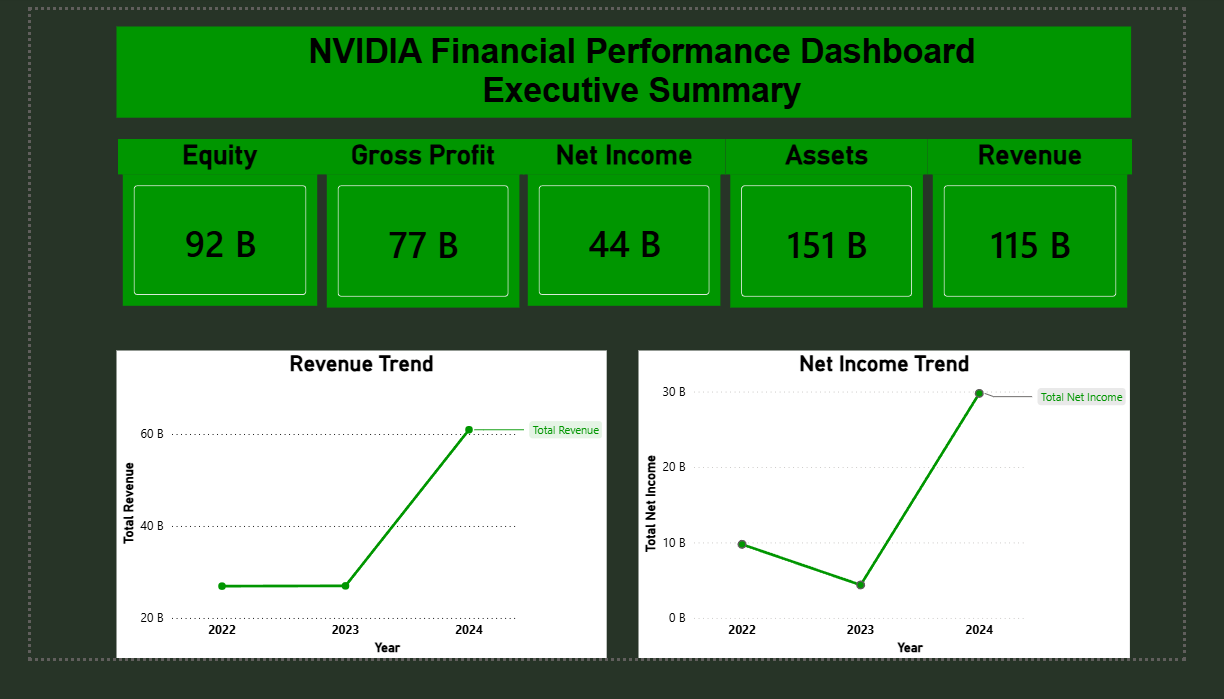

What the dashboard file says about the page in this screenshot:
{"tool":"powerbi","page":{"name":"Executive Summary","canvas":[1280,720],"ordinal":0},"visuals":[{"type":"cardVisual","title":"Revenue","fields":{"Data":["KPI_Table.Total Revenue"]},"box":[997.2,142.7,226.4,192.3],"z":0},{"type":"cardVisual","title":"Net Income","fields":{"Data":["KPI_Table.Total Net Income"]},"box":[547.5,142.7,224.9,190.8],"z":1000},{"type":"cardVisual","title":"Equity","fields":{"Data":["KPI_Table.Total Equity"]},"box":[96.2,142.7,226.4,190.8],"z":2000},{"type":"cardVisual","title":"Gross Profit","fields":{"Data":["KPI_Table.Total Gross Profit"]},"box":[322.6,142.7,224.9,192.3],"z":3000},{"type":"cardVisual","title":"Assets","fields":{"Data":["KPI_Table.Total Assets"]},"box":[772.3,142.7,224.9,192.3],"z":4000},{"type":"textbox","box":[94.7,18.9,1127.4,101.1],"z":5000},{"type":"lineChart","title":"Revenue Trend ","fields":{"Category":["Dim_Year.Year"],"Y":["KPI_Table.Total Revenue"]},"box":[94.9,377.8,544.6,341.8],"z":6000},{"type":"lineChart","title":"Net Income Trend","fields":{"Category":["Dim_Year.Year"],"Y":["KPI_Table.Total Net Income"]},"box":[675.4,377.8,546.2,341.8],"z":7000}]}

Visuals, with their boxes in screenshot pixels (x1, y1, x2, y2), scaled from the page's 1280x720 canvas onto the 1224x699 screenshot:
"Revenue" cardVisual: BBox(954, 139, 1170, 325)
"Net Income" cardVisual: BBox(524, 139, 739, 324)
"Equity" cardVisual: BBox(92, 139, 308, 324)
"Gross Profit" cardVisual: BBox(308, 139, 524, 325)
"Assets" cardVisual: BBox(739, 139, 954, 325)
textbox: BBox(91, 18, 1169, 116)
"Revenue Trend " lineChart: BBox(91, 367, 612, 698)
"Net Income Trend" lineChart: BBox(646, 367, 1168, 698)
